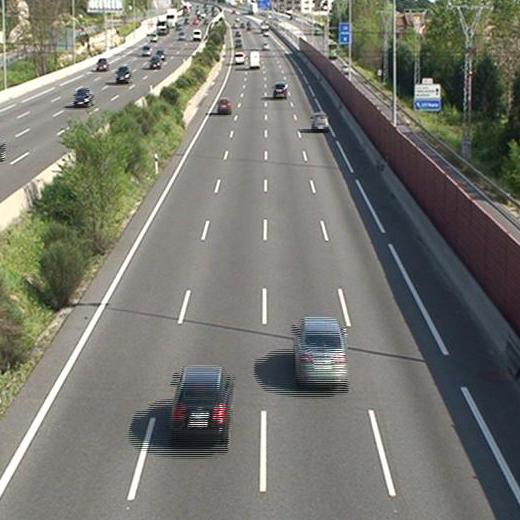car: (171, 368, 229, 436), (294, 318, 346, 382), (311, 113, 328, 129), (218, 98, 231, 113), (274, 82, 287, 97)
van: (250, 52, 260, 68), (234, 50, 244, 64)
